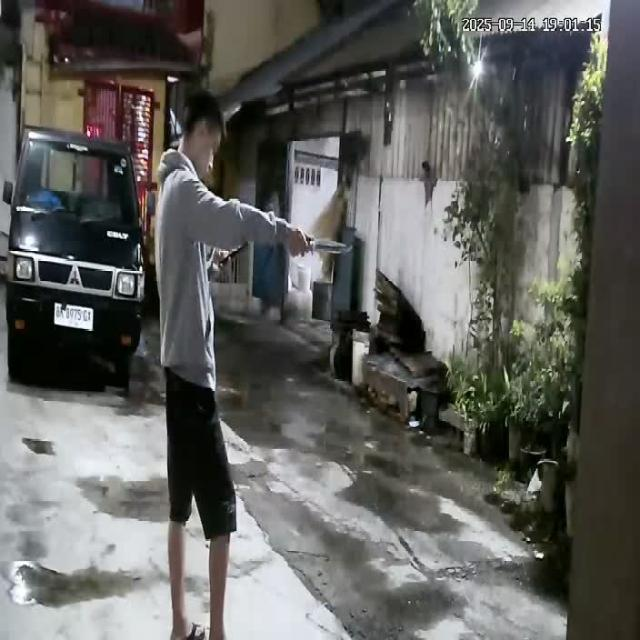senjata_tajam: (307, 236, 355, 254)
